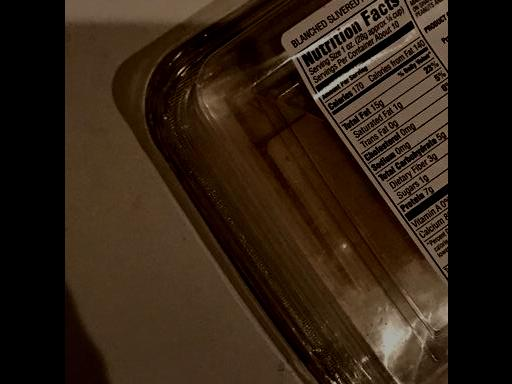bottle: (161, 0, 431, 384)
